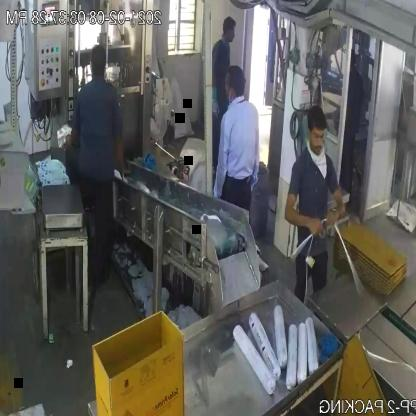no_glove: (277, 189, 323, 247), (315, 180, 353, 239)
